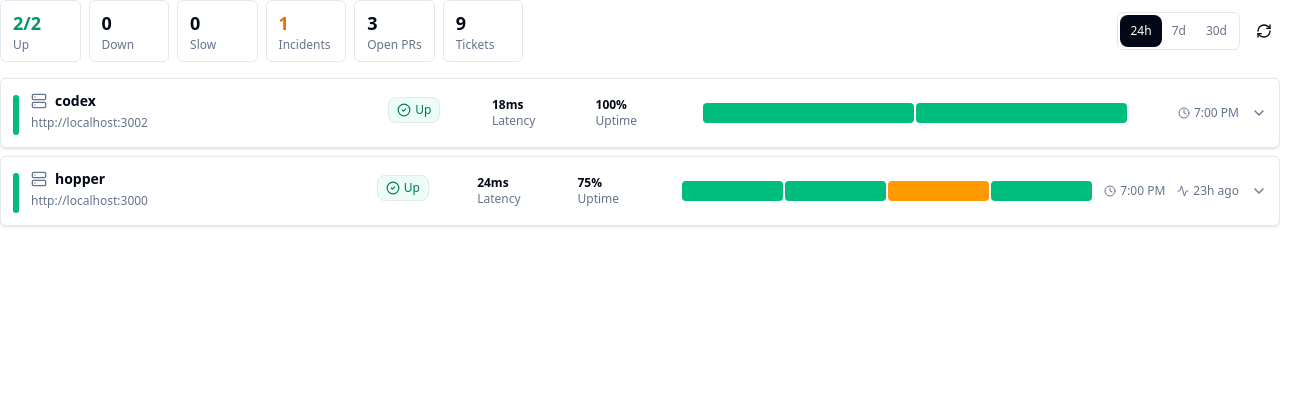
Services › uses workSamples for work trends while health trends use samples
The width and height of the screenshot is (1292, 401).
Click the text "hopper": (80, 179) [55,169,105,189]
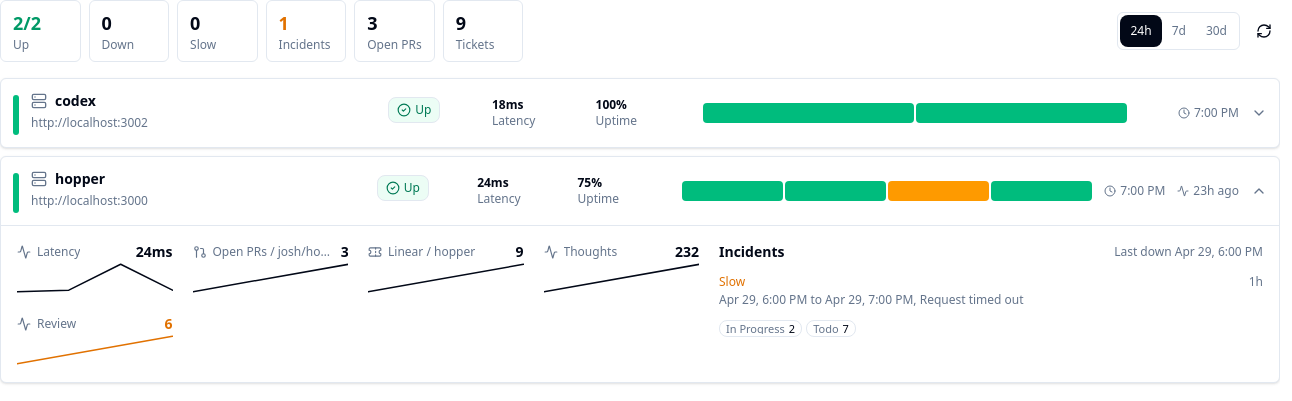
Expected: the picture named "Latency trend from 20 to 90" is shown, [17,262,172,294]
Expected: the picture named "Open PRs / josh/hopper trend from 10 to 12" is shown, [192,262,348,294]
Expected: the picture named "Linear / hopper trend from 20 to 24" is shown, [368,262,524,294]
